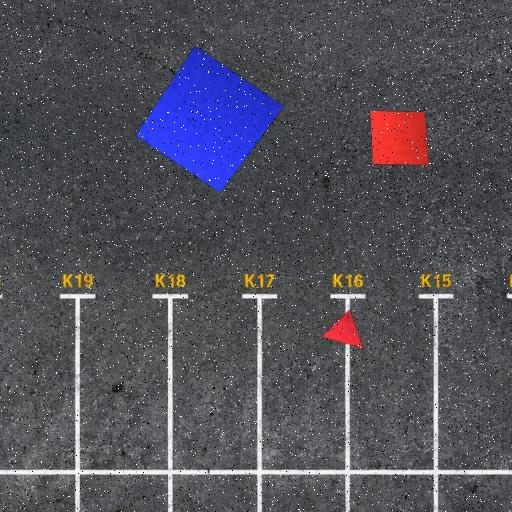BLUE_SQUARE: (134, 46, 285, 194)
RED_SQUARE: (370, 111, 430, 165)
